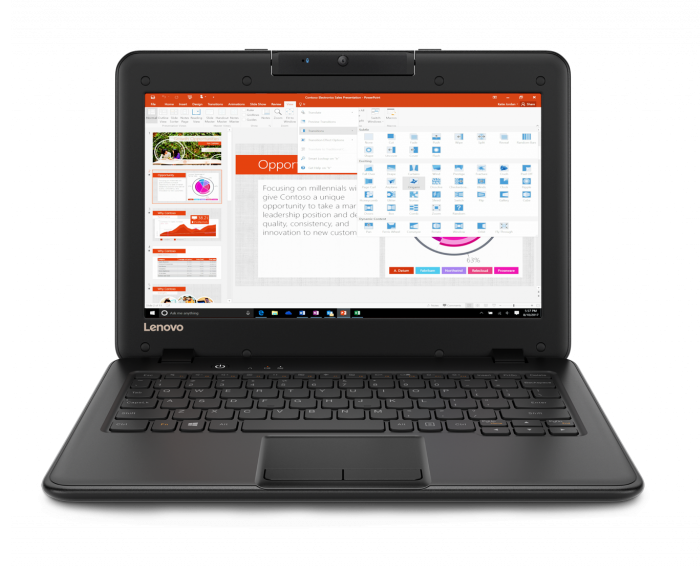Laptop: (27, 39, 656, 523)
